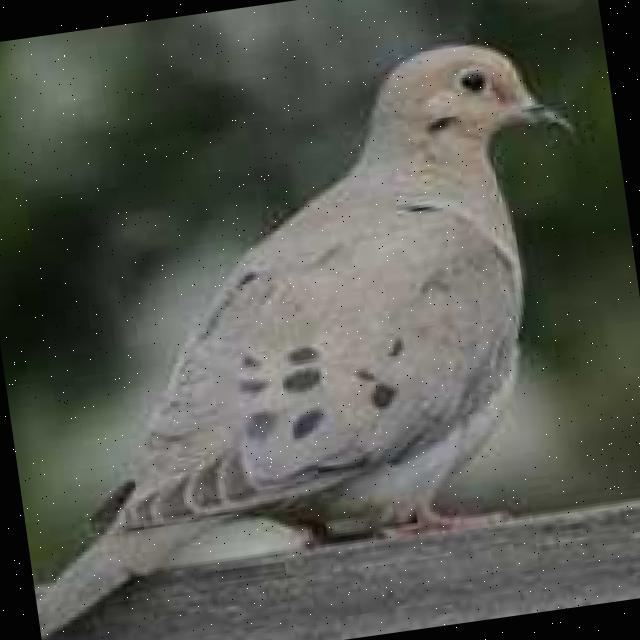dove: (0, 28, 635, 623)
